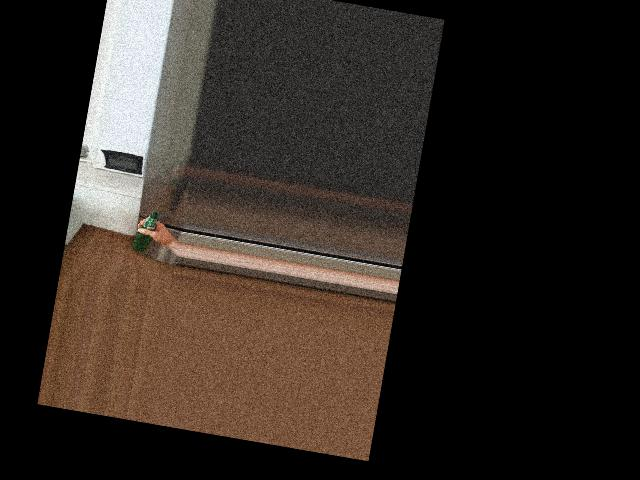beer: (131, 209, 160, 254)
